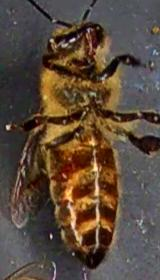varroa_mite: (44, 160, 72, 194)
